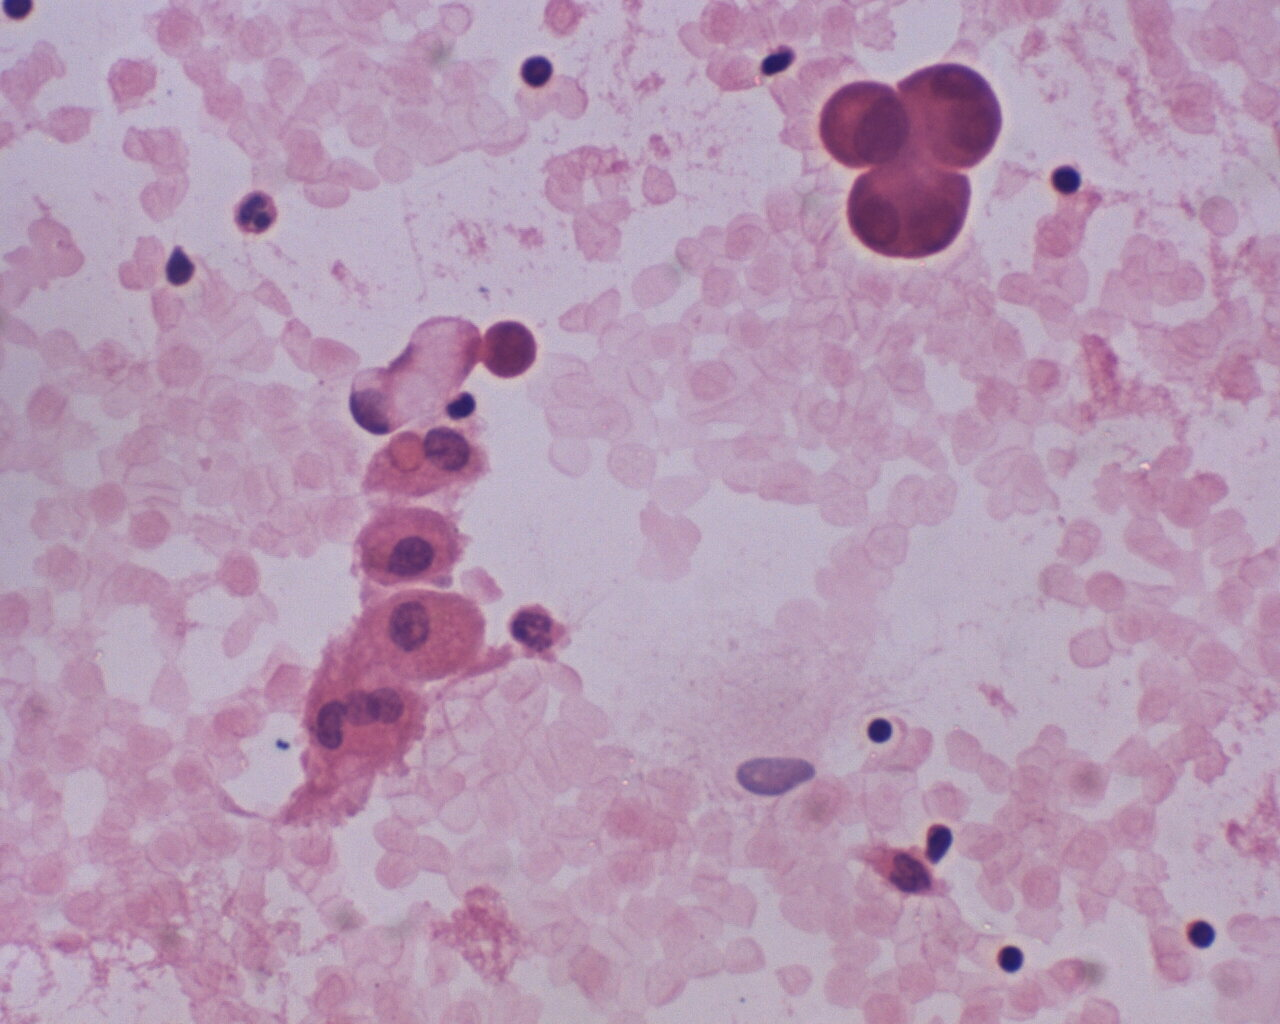ab: (843, 161, 974, 264), (907, 59, 1000, 171), (820, 76, 911, 170)
lymph: (1180, 911, 1223, 957), (987, 938, 1038, 977), (864, 703, 902, 750), (1048, 158, 1088, 197)
meso: (372, 583, 490, 685), (356, 499, 467, 578)
neutro: (230, 186, 287, 245)
